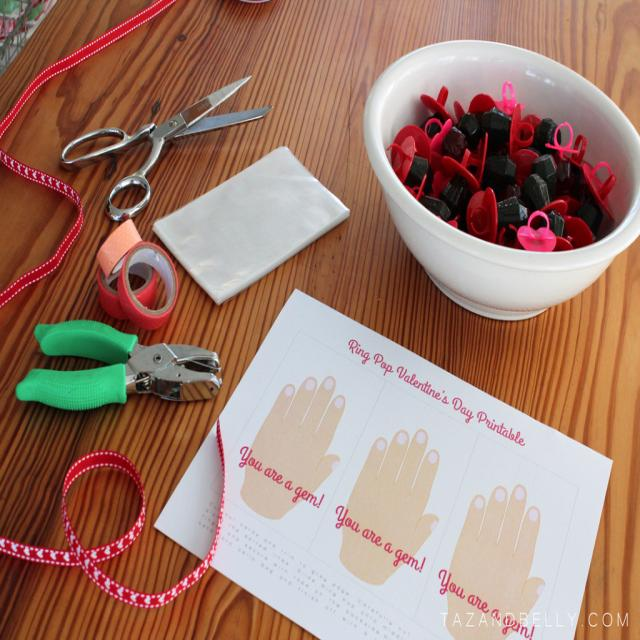scissors: (59, 74, 273, 221)
